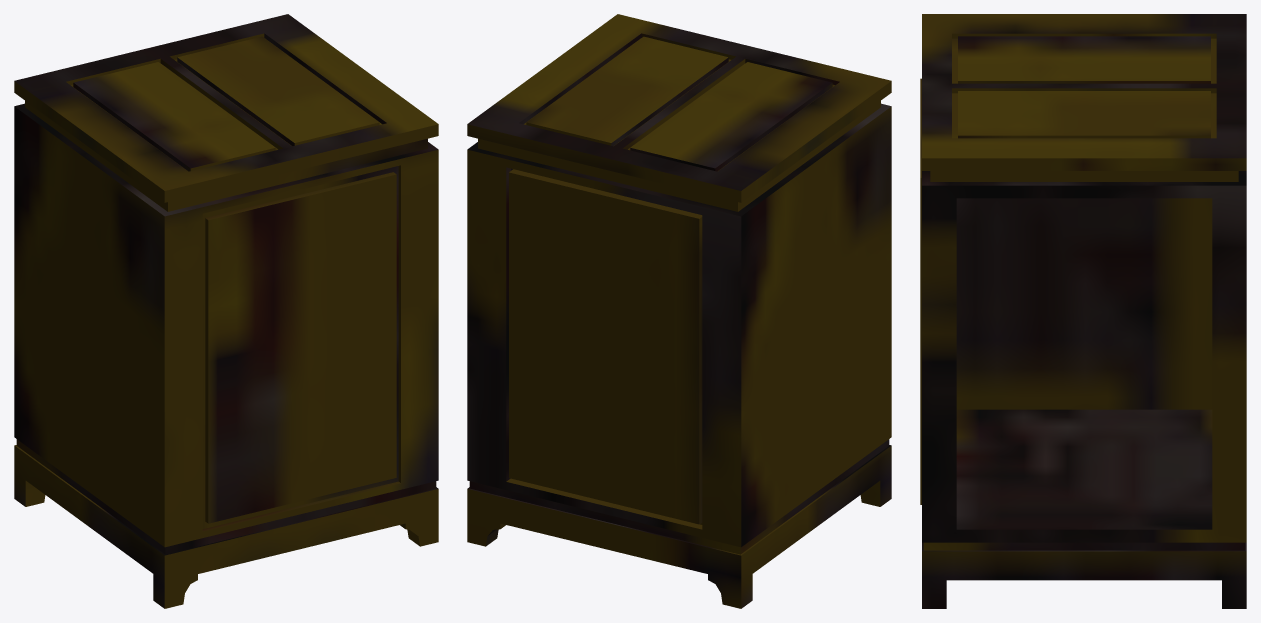
File: Caja_Fuerte.obj
3 views of the same model, side by side, from view 1: azimuth 30°, elevation 25°; view 2: azimuth 150°, elevation 25°; view 3: azimuth 270°, elevation 25° (orthographic). The views are drawn at different scales.
Parts seen in each view (by area): view 1: Caja_Fuerte_Cube_Cube.001; view 2: Caja_Fuerte_Cube_Cube.001; view 3: Caja_Fuerte_Cube_Cube.001.
Part boxes in pixels (<box>): Caja_Fuerte_Cube_Cube.001: <box>14,14,438,608</box>; Caja_Fuerte_Cube_Cube.001: <box>467,14,891,608</box>; Caja_Fuerte_Cube_Cube.001: <box>920,14,1246,608</box>.
Bounding box in the file's own units: 0.2929 × 0.4269 × 0.2803.
Materials: 1 (1 with a texture image).
